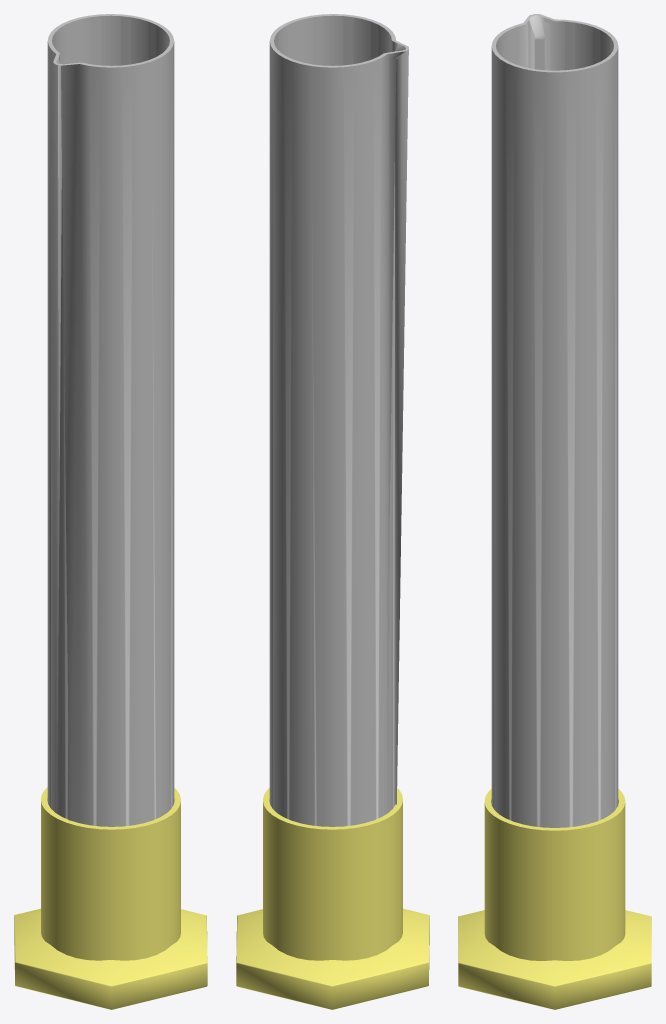
Rendered from Цилиндр мерный60x260 100ml.dae.
3 views of the same model, side by side, from view 1: azimuth 30°, elevation 25°; view 2: azimuth 150°, elevation 25°; view 3: azimuth 270°, elevation 25° (orthographic).
Parts seen in each view (by area): view 1: Цилиндр_Мерный; view 2: Цилиндр_Мерный; view 3: Цилиндр_Мерный.
Part boxes in pixels (x1,y1,x2,y2): Цилиндр_Мерный: (14, 14, 207, 1009); Цилиндр_Мерный: (236, 14, 429, 1009); Цилиндр_Мерный: (458, 14, 651, 1009).
Size of the model in its own units: 6 by 27.55 by 5.27.
